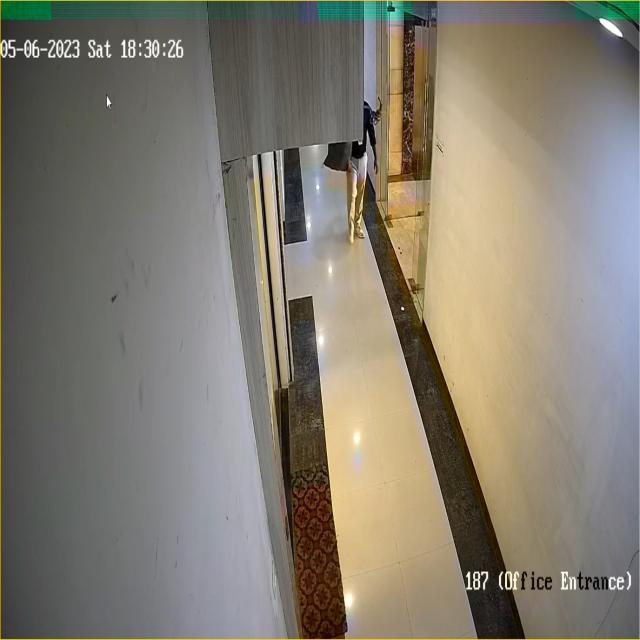gunny_bag: (320, 143, 352, 175)
